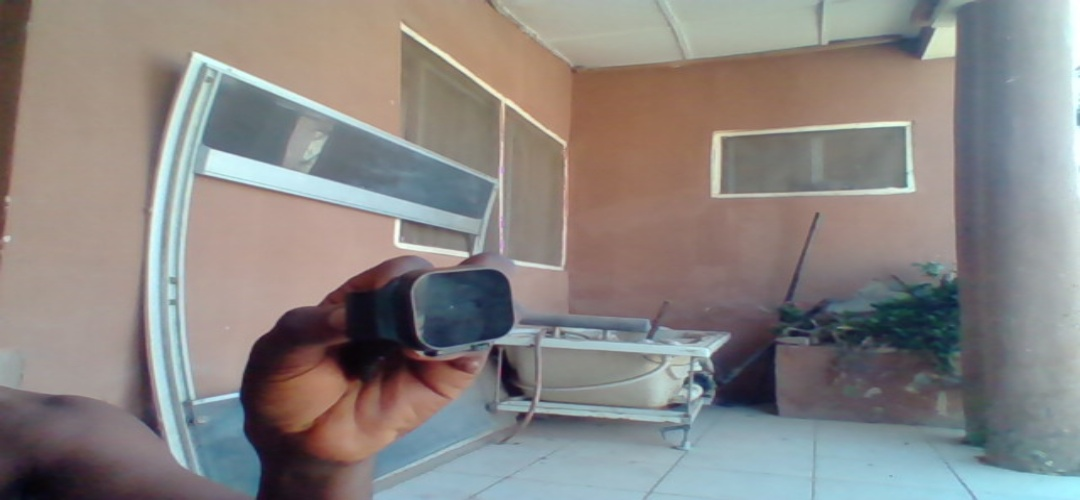smart_watch: (343, 264, 520, 360)
